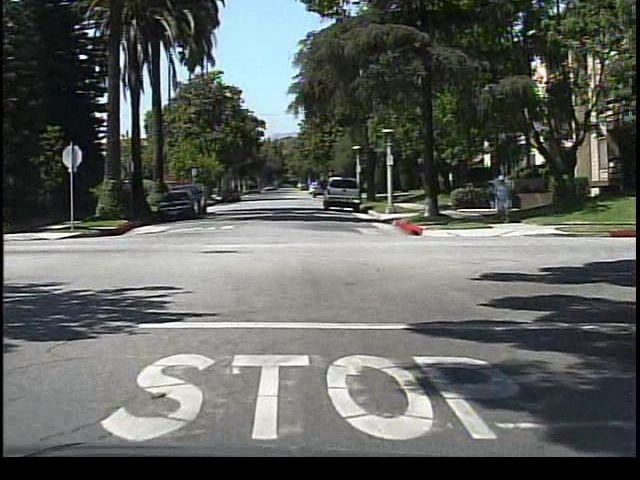person: (491, 171, 516, 225)
